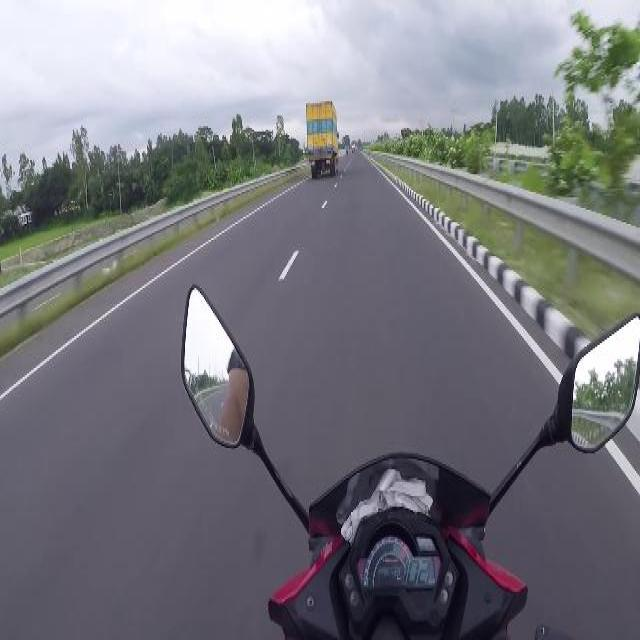bus: (350, 141, 355, 151)
motorcycle: (181, 279, 634, 638)
truck: (305, 100, 339, 178)
